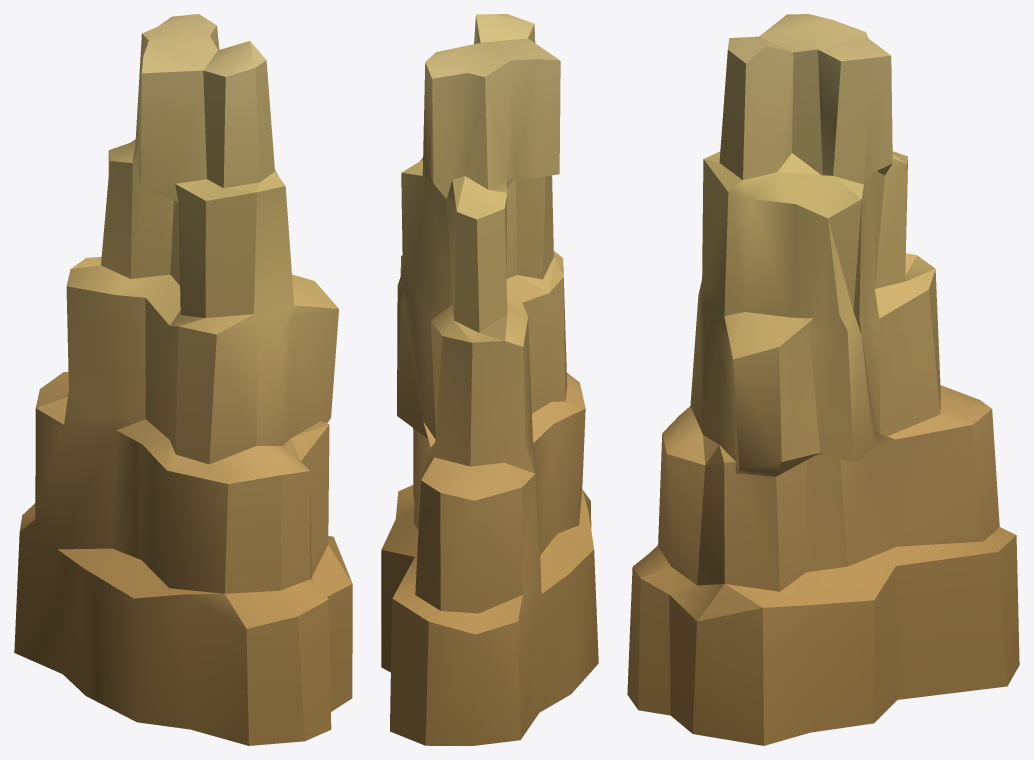
File: military_mountain1.fbx
3 views of the same model, side by side, from view 1: azimuth 30°, elevation 25°; view 2: azimuth 150°, elevation 25°; view 3: azimuth 270°, elevation 25° (orthographic). The views are drawn at different scales.
Visible parts, largest first — view 1: military_mountain1; view 2: military_mountain1; view 3: military_mountain1.
Boxes of the visible parts, x1,y1,x2,y2 form: military_mountain1: (14, 14, 352, 745); military_mountain1: (381, 14, 598, 745); military_mountain1: (627, 14, 1019, 745).
Size of the model in its own units: 10.45 by 27.92 by 15.15.
